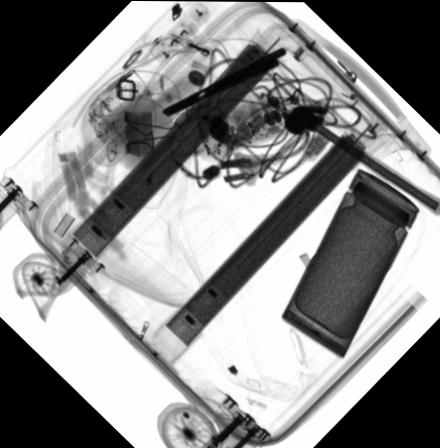Hammer: (283, 103, 440, 214)
Pliers: (161, 46, 286, 116)
